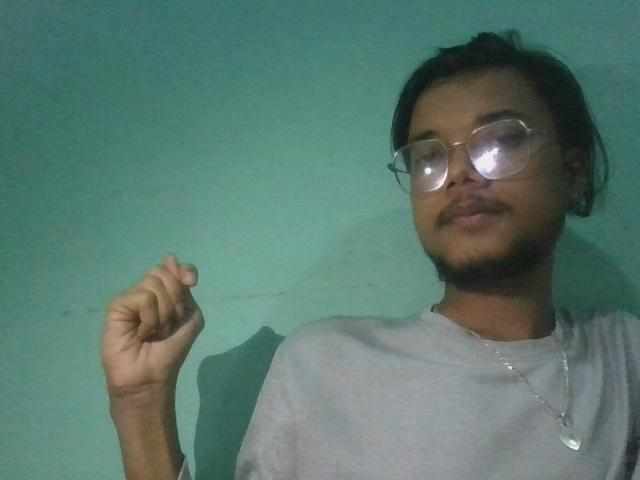Washroom: (89, 245, 209, 411)
